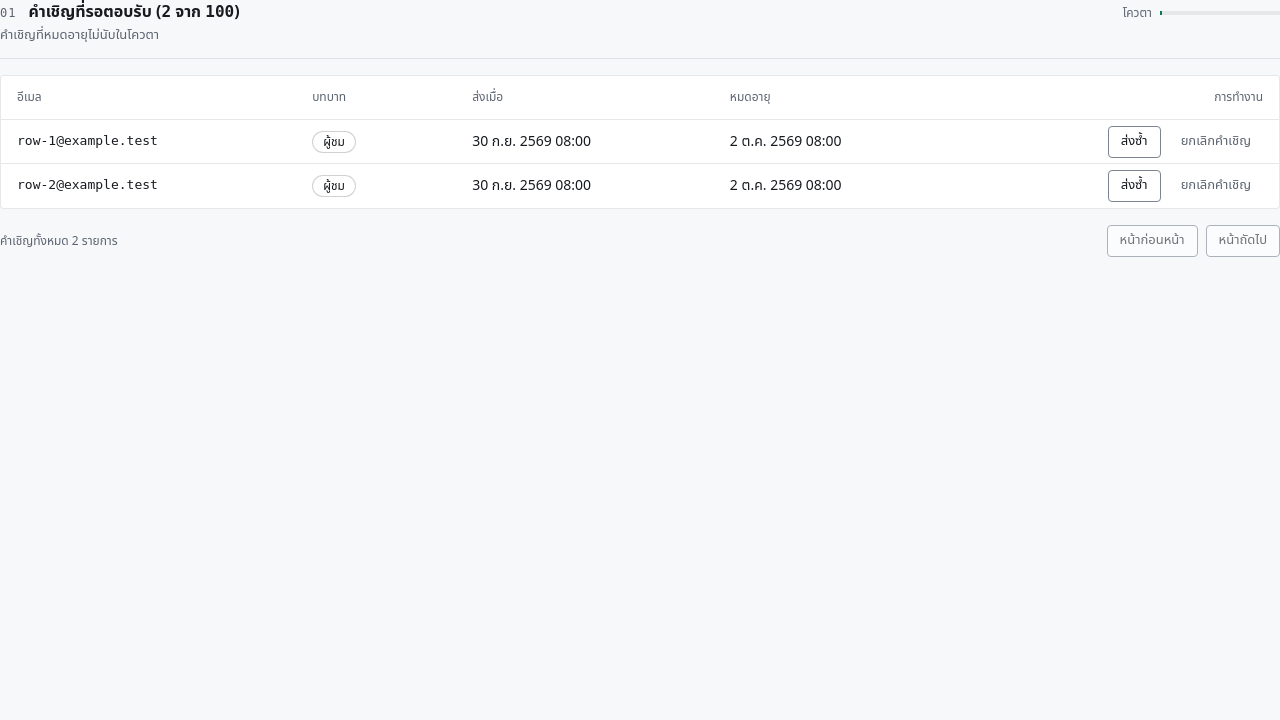
Test: invitation resend › opens a confirmation naming the email, role, Organization and impact, with no id or link
Click the button "ส่งซ้ำ" in the row of "row-1@example.test".
click(1134, 142)  # box left=1108, top=126, right=1161, bottom=158
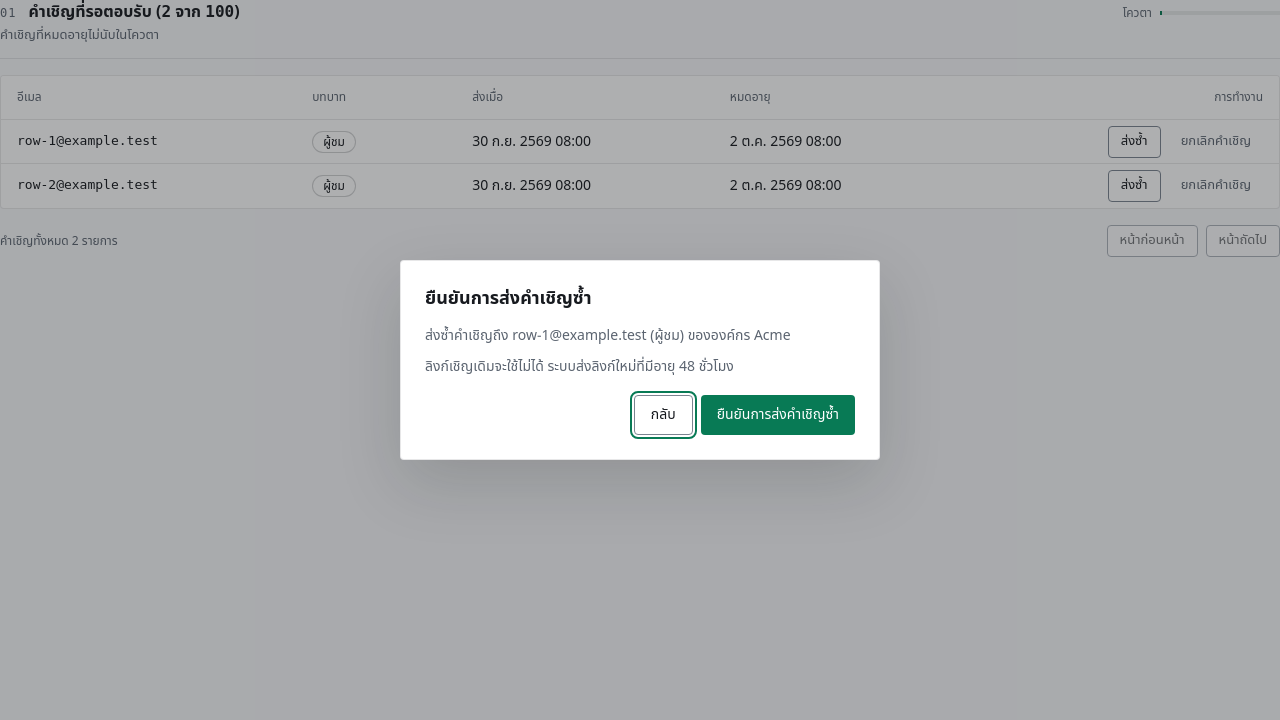
Result: the text "ส่งซ้ำคำเชิญถึง row-1@example.test (ผู้ชม) ขององค์กร Acme" is shown at left=425, top=325, right=855, bottom=348
Result: the dialog with test id "^invitation-(cancel|resend)-dialog$" shows "Acme" at left=754, top=325, right=791, bottom=346
